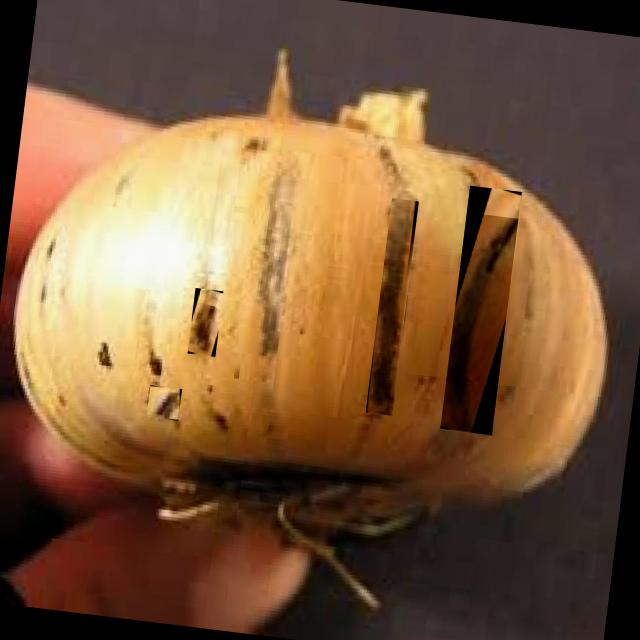mould: (442, 219, 518, 431), (374, 200, 414, 413), (192, 293, 218, 355), (147, 388, 179, 418)
